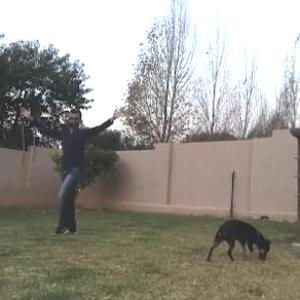takeoff: (52, 114, 162, 234)
